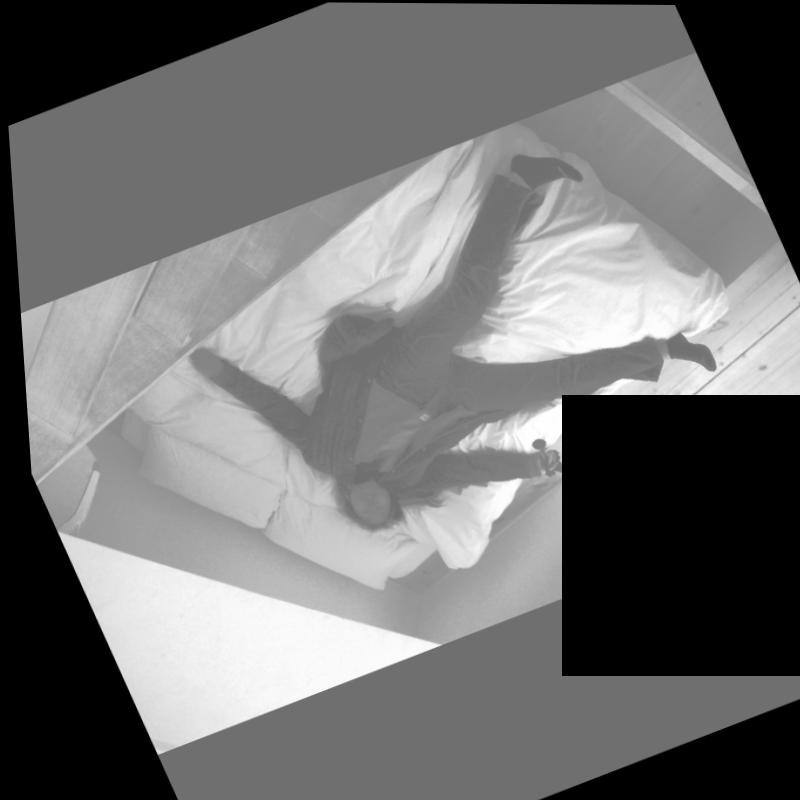pillow: (112, 388, 287, 563), (240, 457, 416, 619)
